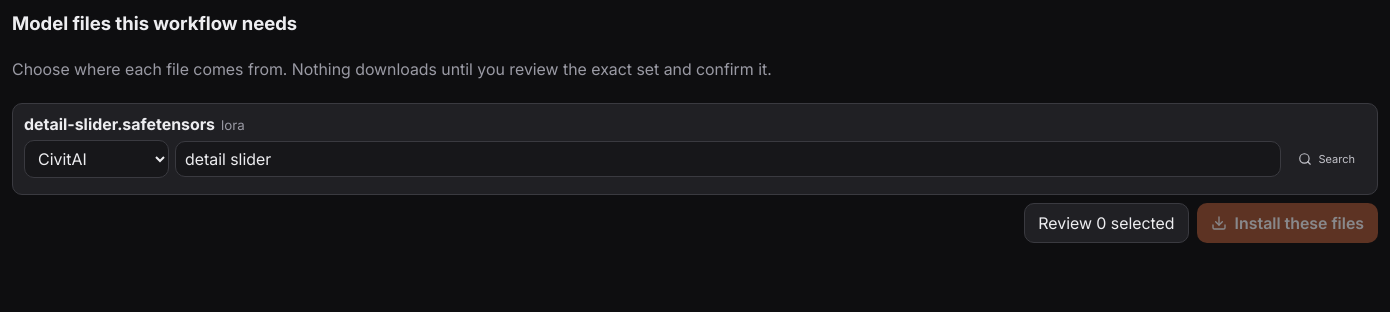
Test case: workflow asset installer › says why a source that does not hold the file produced nothing
Click the button "Search".
click(1327, 159)  # box [1288,144,1366,174]
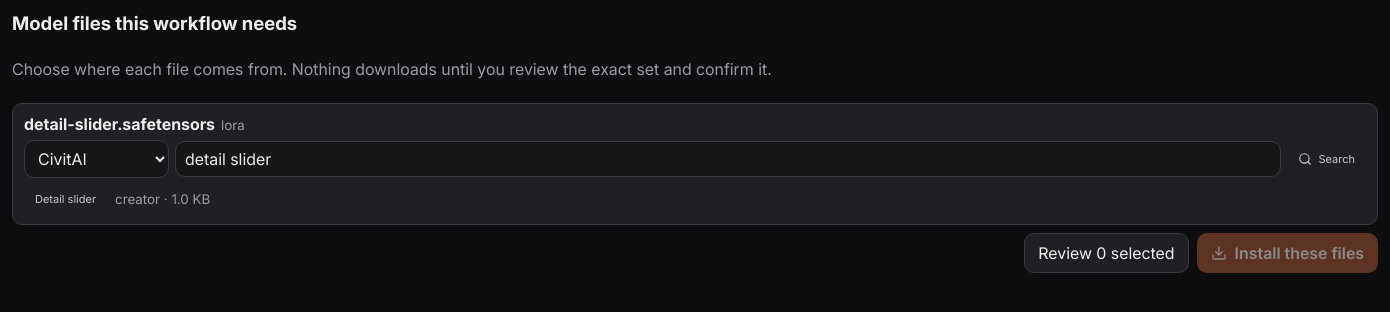
Click the button "Detail slider".
click(66, 199)  # box [24,184,107,214]
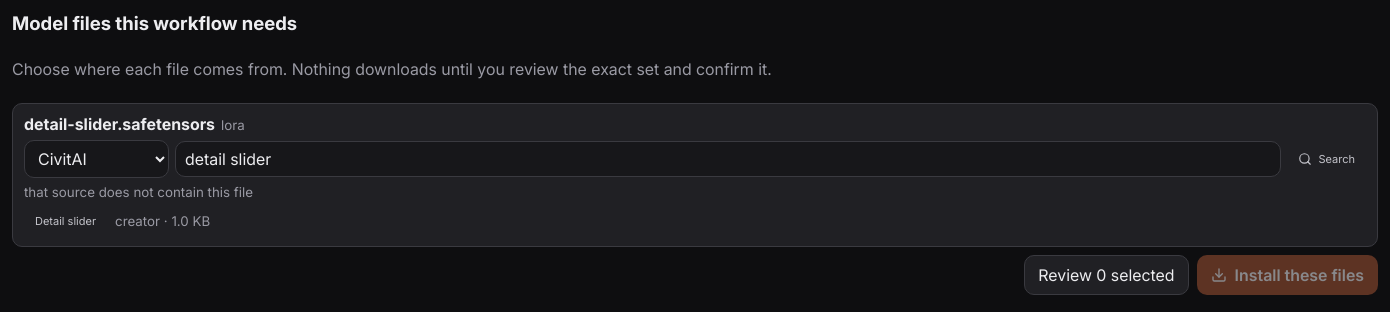
expect the message shows "does not contain this file": met, box [24,184,253,200]
